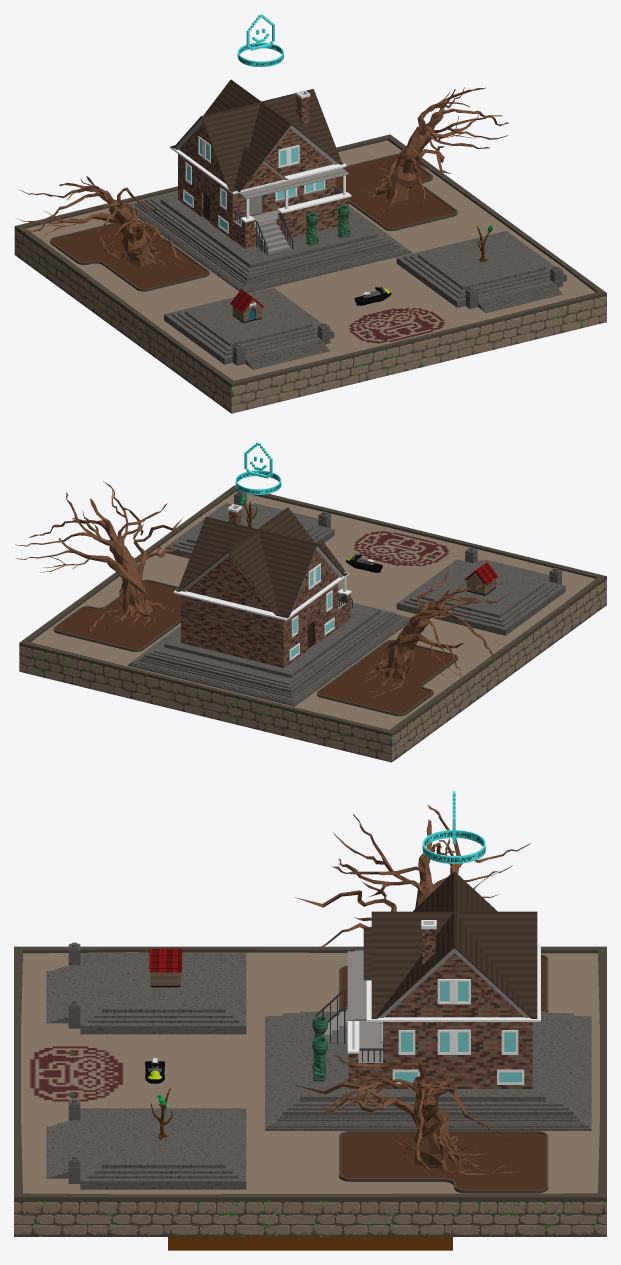
3 renders of one model, top to bottom at view 1: azimuth 30°, elevation 25°; view 2: azimuth 150°, elevation 25°; view 3: azimuth 270°, elevation 25°, orthographic. The views are drawn at different scales.
Visible parts, largest first — view 1: Cube.011, Cube.117, TYPE_PREMIUM, OBJRANDOM_DOGHOUSE; view 2: Cube.011, Cube.117, TYPE_PREMIUM, OBJRANDOM_DOGHOUSE; view 3: Cube.011, Cube.117, UNDERGROUND_ART_PIECE_VAN_GOGH, OBJRANDOM_DOGHOUSE, TYPE_PREMIUM.
Boxes of the visible parts, x1,y1,x2,y2 form: Cube.011: (14, 87, 606, 413); Cube.117: (169, 79, 351, 255); TYPE_PREMIUM: (237, 14, 283, 67); OBJRANDOM_DOGHOUSE: (230, 289, 263, 323); Cube.011: (15, 481, 606, 762); Cube.117: (173, 504, 352, 667); TYPE_PREMIUM: (235, 442, 281, 494); OBJRANDOM_DOGHOUSE: (464, 562, 498, 595); Cube.011: (14, 804, 606, 1236); Cube.117: (315, 872, 540, 1088); UNDERGROUND_ART_PIECE_VAN_GOGH: (168, 1237, 452, 1250); OBJRANDOM_DOGHOUSE: (149, 948, 181, 987); TYPE_PREMIUM: (422, 791, 485, 863).
Size of the model in its own units: 5099 by 2592 by 4000.
37 materials, 8 textured.
